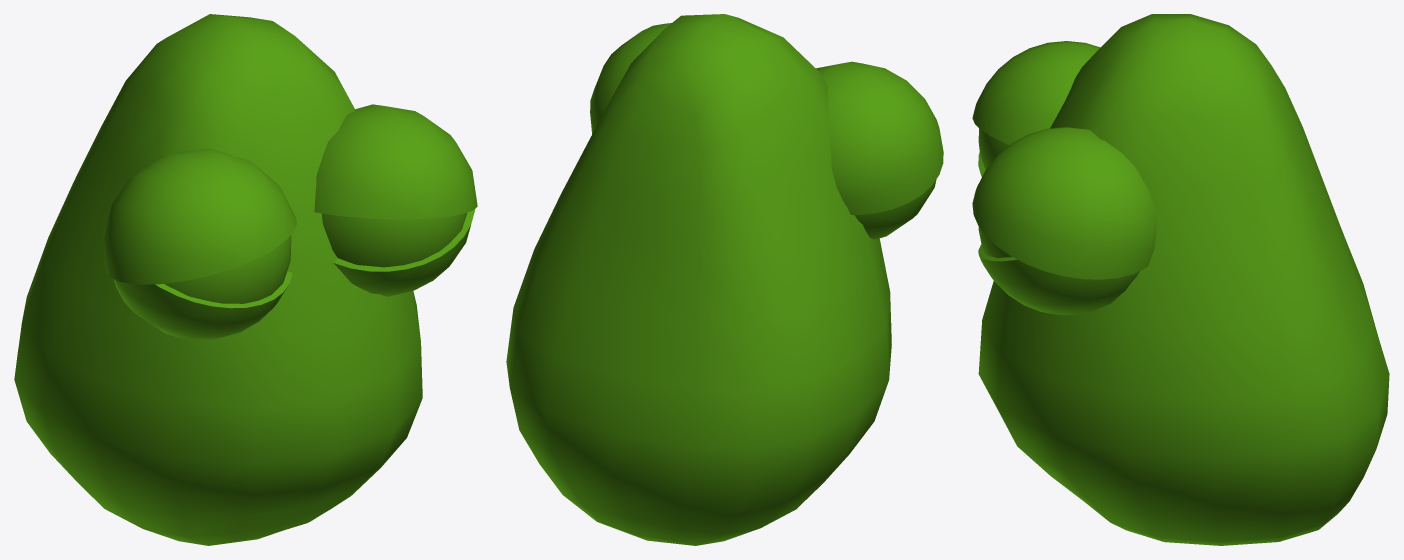
Rendered from Chara03.1.fbx.
3 renders of one model, left to right at view 1: azimuth 30°, elevation 25°; view 2: azimuth 150°, elevation 25°; view 3: azimuth 270°, elevation 25°, orthographic. The views are drawn at different scales.
Visible parts, largest first — view 1: Chara_03; view 2: Chara_03; view 3: Chara_03.
Part boxes in pixels (x1,y1,x2,y2): Chara_03: [14, 14, 477, 545]; Chara_03: [506, 14, 943, 545]; Chara_03: [972, 14, 1389, 545].
Bounding box in the file's own units: 328 × 461 × 347.
